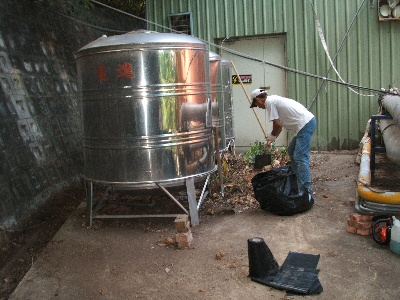plastic_bag: (252, 169, 311, 213)
water_tower: (77, 29, 218, 228)
